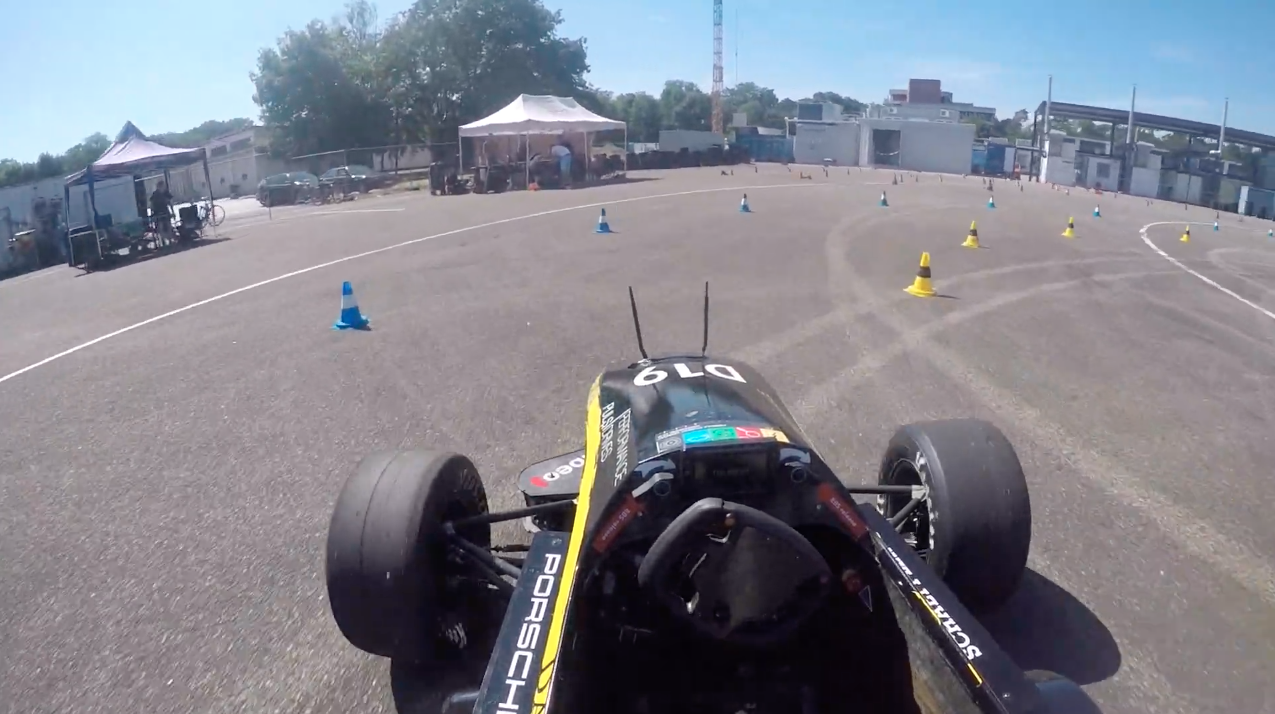lcone: (329, 277, 373, 334), (593, 205, 615, 236), (736, 191, 755, 214)
rcone: (901, 250, 943, 299), (958, 218, 984, 251)
